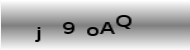9: (61, 21, 76, 34)
A: (100, 20, 115, 37)
Q: (115, 14, 132, 30)
j: (33, 25, 42, 42)
o: (86, 25, 100, 36)
